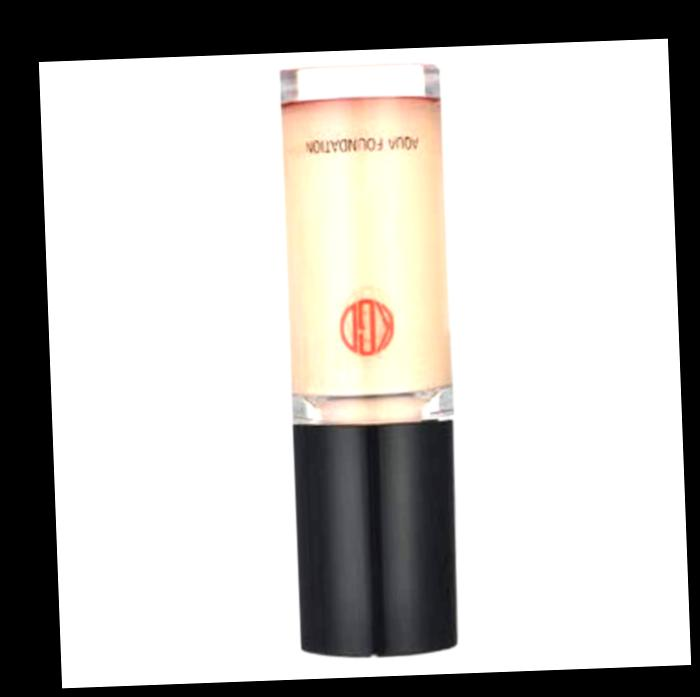cosmetic: (273, 58, 464, 658)
